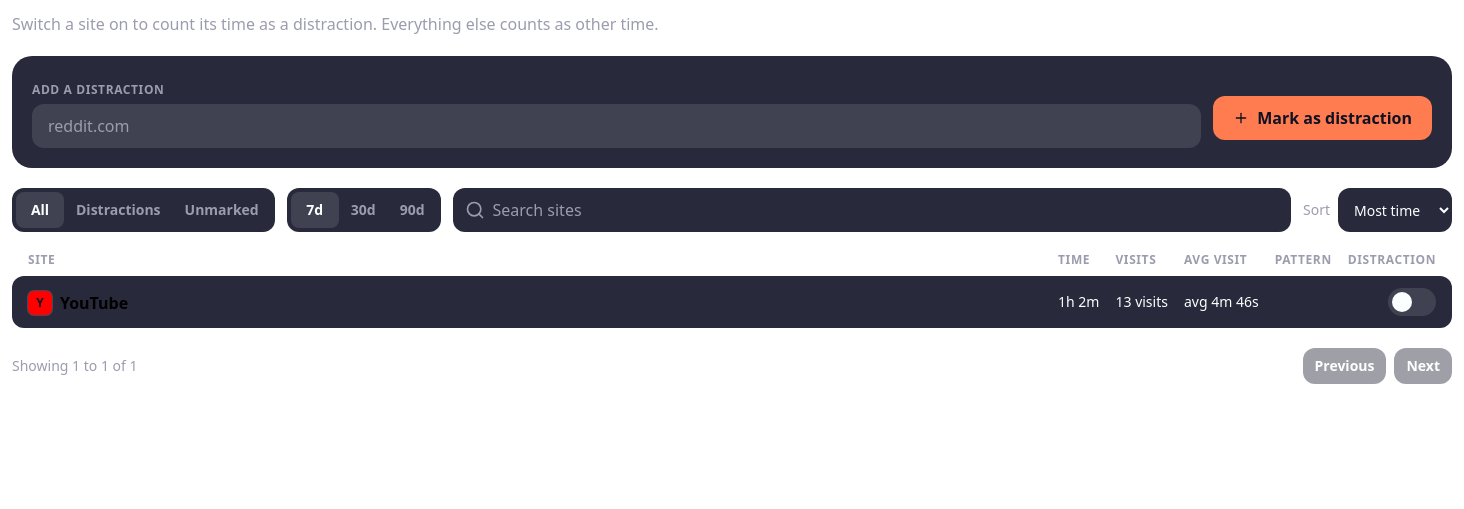
Test: SitesManager › when there is nothing to show › says nothing matches a filter, and clears it with one click
This screenshot has width=1464, height=509.
Expected: the text "YouTube" is shown, [60,291,128,315]
Click the radio button labelled "Distractions" at coordinates (118, 210), box [64,192,173,228]
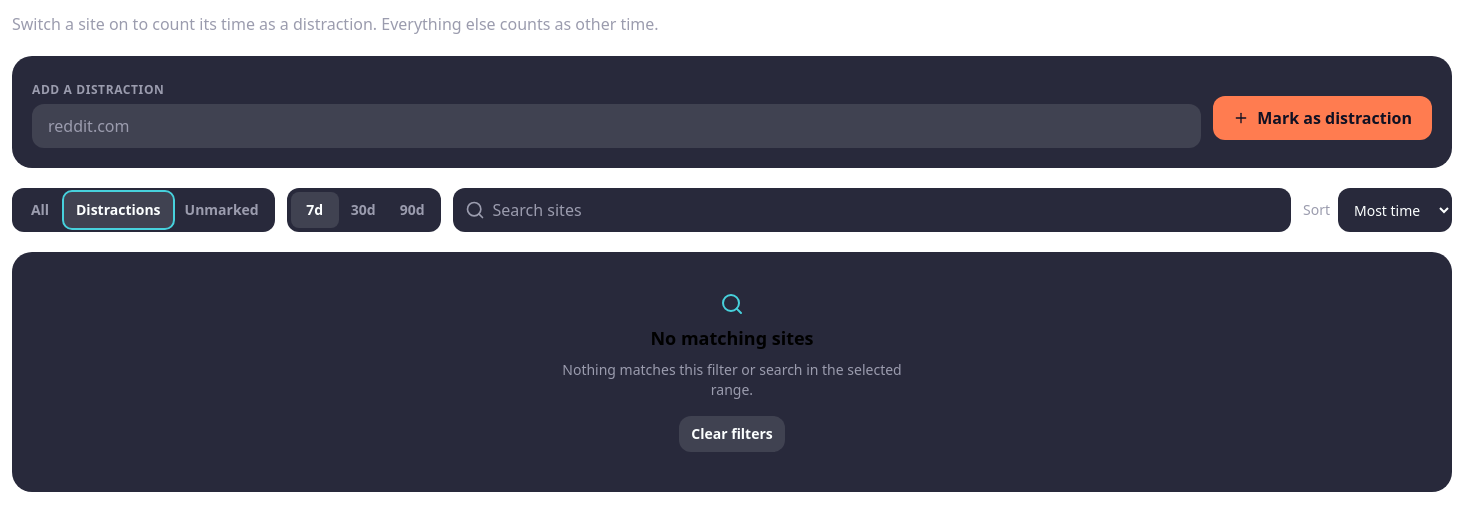
Now the text "No matching sites" is shown, box [650,324,814,352]
Click the button "Clear filters" at coordinates (732, 434), box [679,416,785,452]
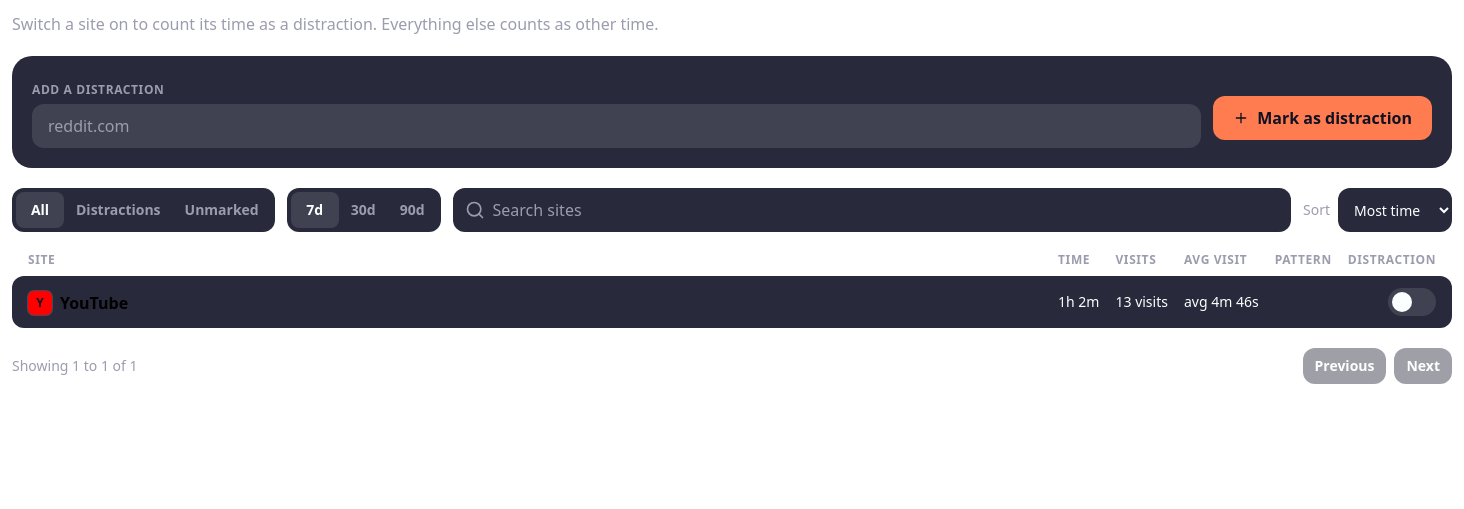
Now the text "YouTube" is shown, box [60,291,128,315]
